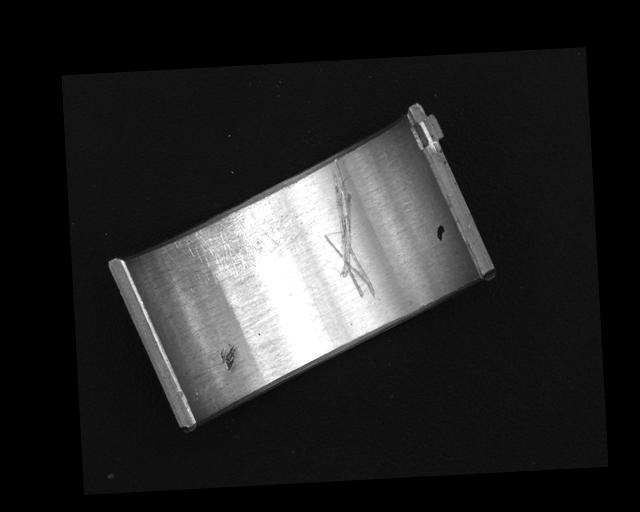blot: (436, 224, 446, 243)
bruise: (218, 344, 238, 372)
nick: (320, 154, 376, 300)
scratch: (169, 198, 293, 292)
